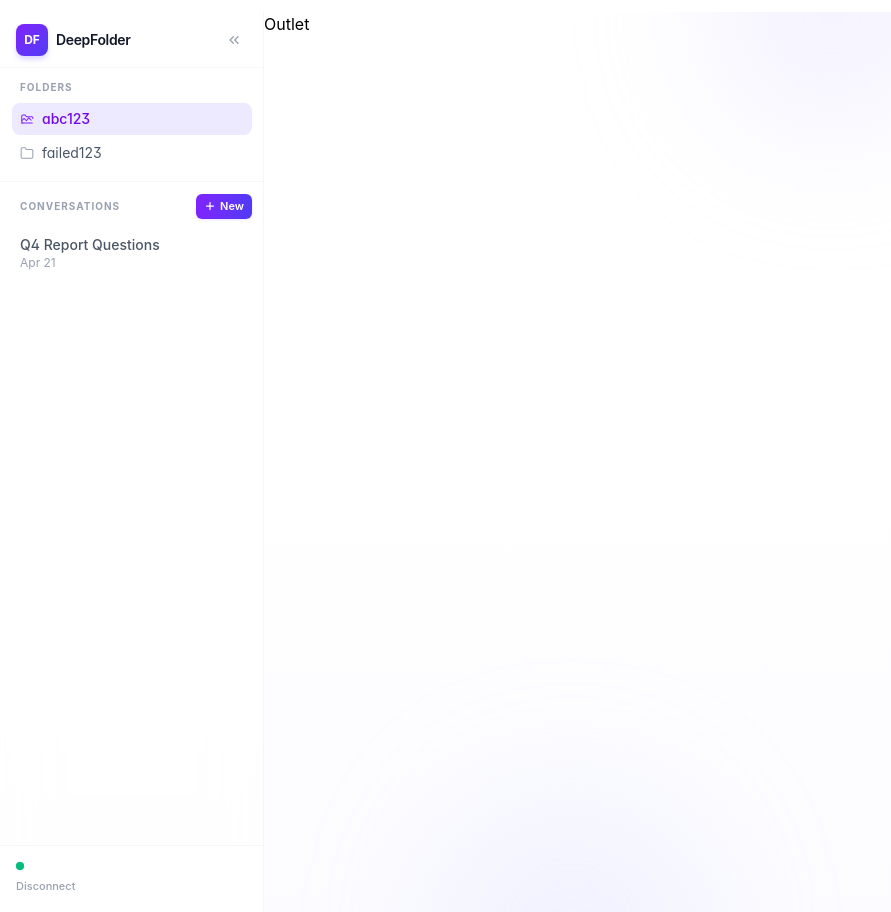
Test: Shell sidebar › clicking conversation navigates to chat page
This screenshot has width=891, height=912.
Click the button with test id "conv-conv_1": [132, 252] box 12,226 -> 252,278
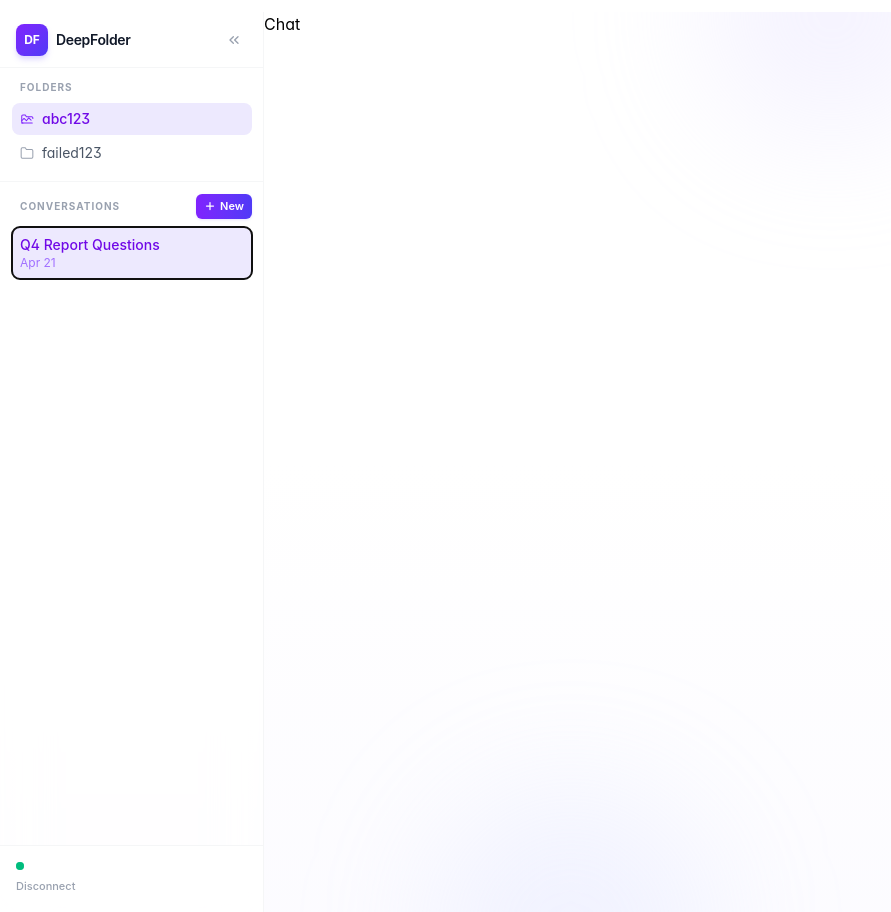
Now the text "Chat" is shown, box 264,14 -> 300,34
